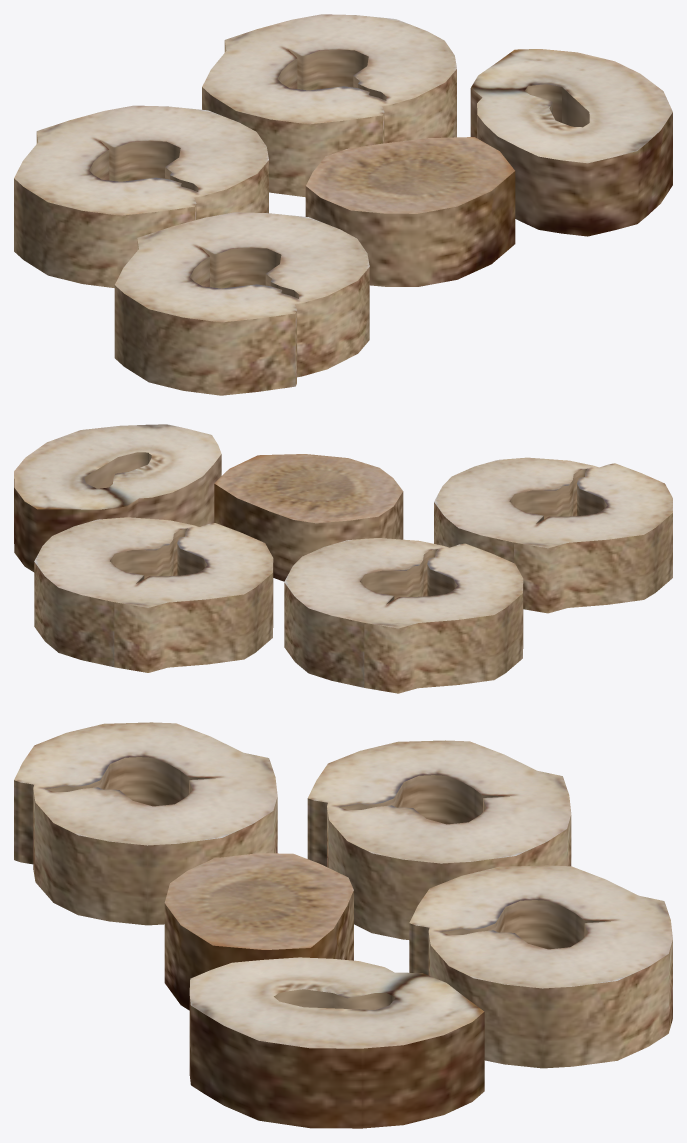
The model's file is mudanpi.FBX.
3 views of the same model, one above another, from view 1: azimuth 30°, elevation 25°; view 2: azimuth 150°, elevation 25°; view 3: azimuth 270°, elevation 25° (orthographic). The views are drawn at different scales.
Visible parts, largest first — view 1: Line007, Line006, Line002, Line004, Line005; view 2: Line006, Line002, Line007, Line004, Line005; view 3: Line004, Line002, Line007, Line006, Line005.
Part boxes in pixels (x1,y1,x2,y2): Line007: (114, 212, 369, 395); Line006: (14, 105, 268, 287); Line002: (202, 14, 456, 197); Line004: (470, 49, 672, 236); Line005: (305, 137, 515, 286); Line006: (284, 538, 523, 693); Line002: (34, 517, 273, 672); Line007: (434, 457, 672, 613); Line004: (14, 424, 221, 572); Line005: (214, 454, 403, 581); Line004: (189, 957, 484, 1128); Line002: (409, 865, 672, 1068); Line007: (14, 722, 277, 925); Line006: (307, 740, 571, 939); Line005: (164, 853, 353, 1010).
Bounding box in the file's own units: 61.27 × 7 × 52.32.
Materials: 1 (1 with a texture image).
